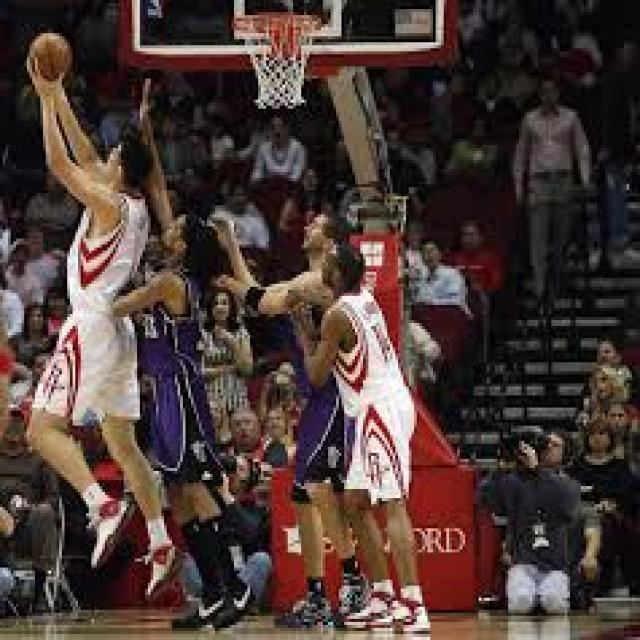rim: (29, 33, 70, 82)
